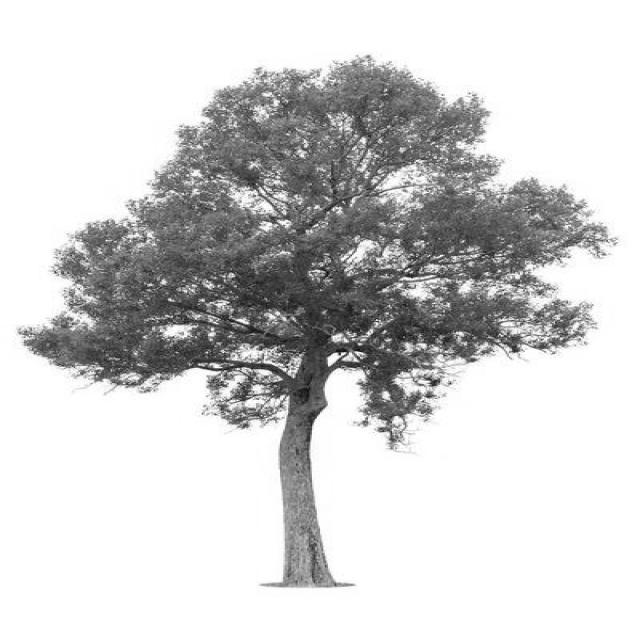Tree: (22, 58, 612, 588)
